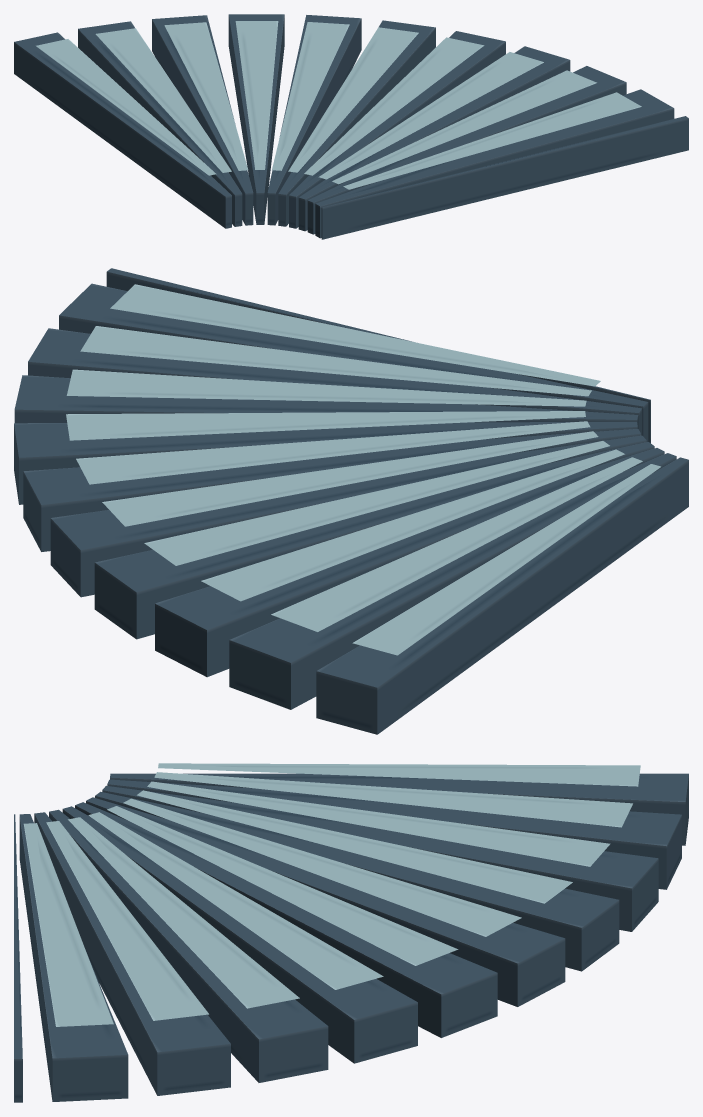
The model's file is sc_tread_curve_left_22.obj.
3 renders of one model, top to bottom at view 1: azimuth 30°, elevation 25°; view 2: azimuth 150°, elevation 25°; view 3: azimuth 270°, elevation 25°, orthographic. The views are drawn at different scales.
Size of the model in its own units: 17.5 by 1.56 by 17.5.
Materials: 1 (1 with a texture image).
